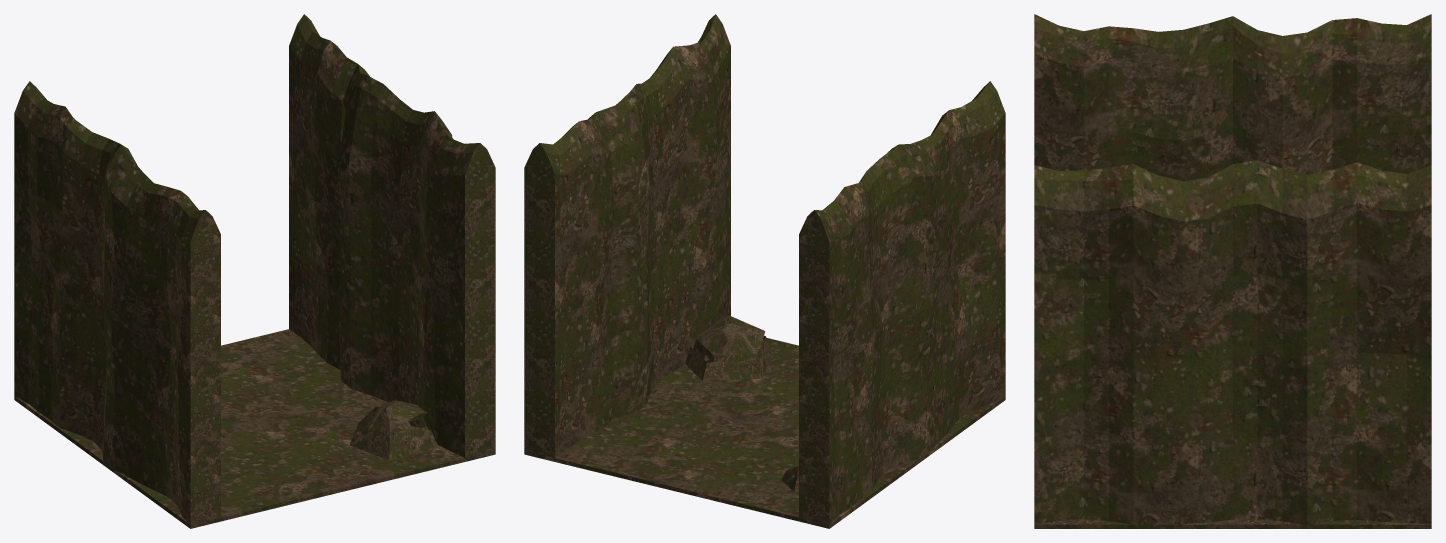
The model's file is dungeon_corridor_4_limestone.glb.
The picture shows the model from 3 angles, left to right: view 1: azimuth 30°, elevation 25°; view 2: azimuth 150°, elevation 25°; view 3: azimuth 270°, elevation 25°; orthographic projection. The views are drawn at different scales.
Parts seen in each view (by area): view 1: dungeon_corridor_4_limestone; view 2: dungeon_corridor_4_limestone; view 3: dungeon_corridor_4_limestone.
Boxes of the visible parts, x1,y1,x2,y2 form: dungeon_corridor_4_limestone: (14,14,495,528); dungeon_corridor_4_limestone: (524,14,1005,528); dungeon_corridor_4_limestone: (1034,14,1431,528).
Bounding box in the file's own units: 4.09 × 3.96 × 4.
Materials: 2 (2 with a texture image).
